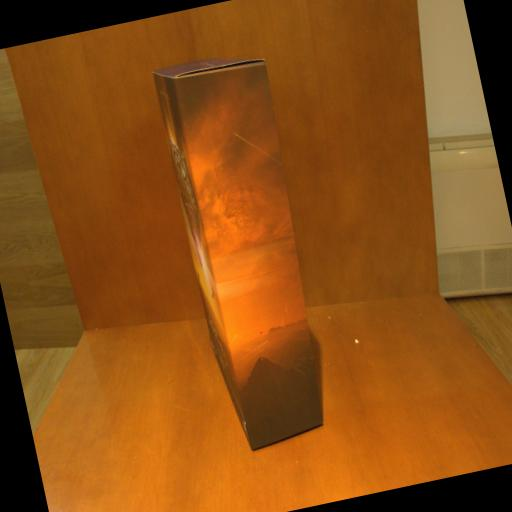superman: (151, 46, 342, 456)
